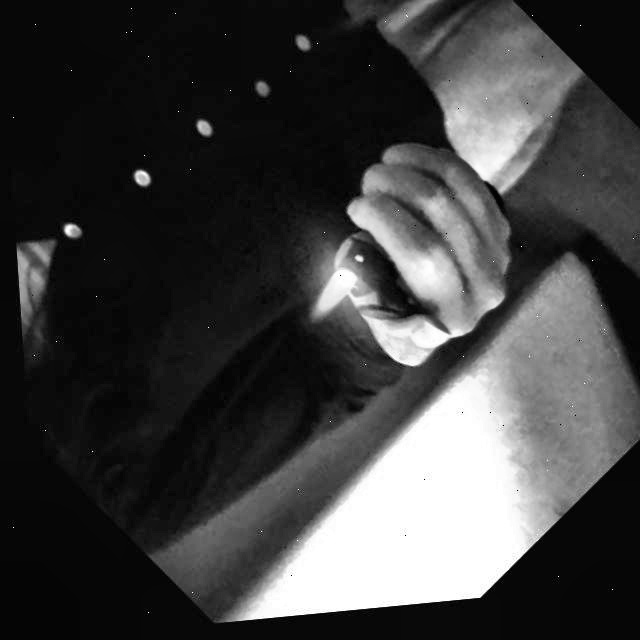Fire: (296, 274, 354, 330)
